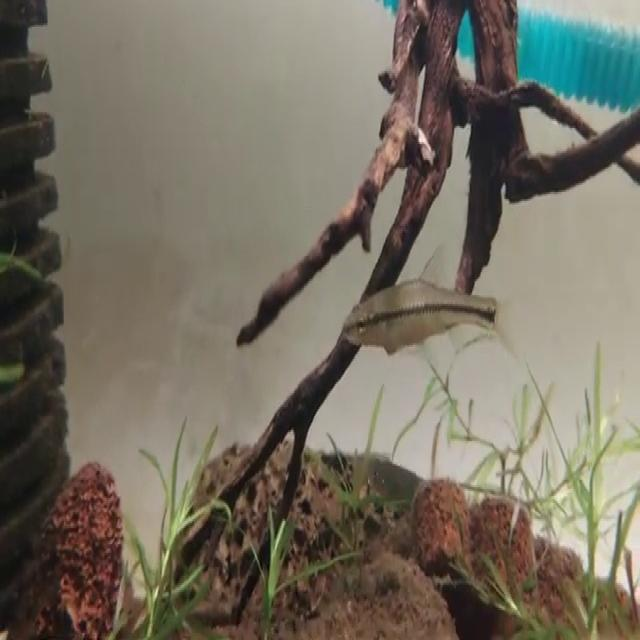Cakil Baligi: (338, 253, 520, 360)
